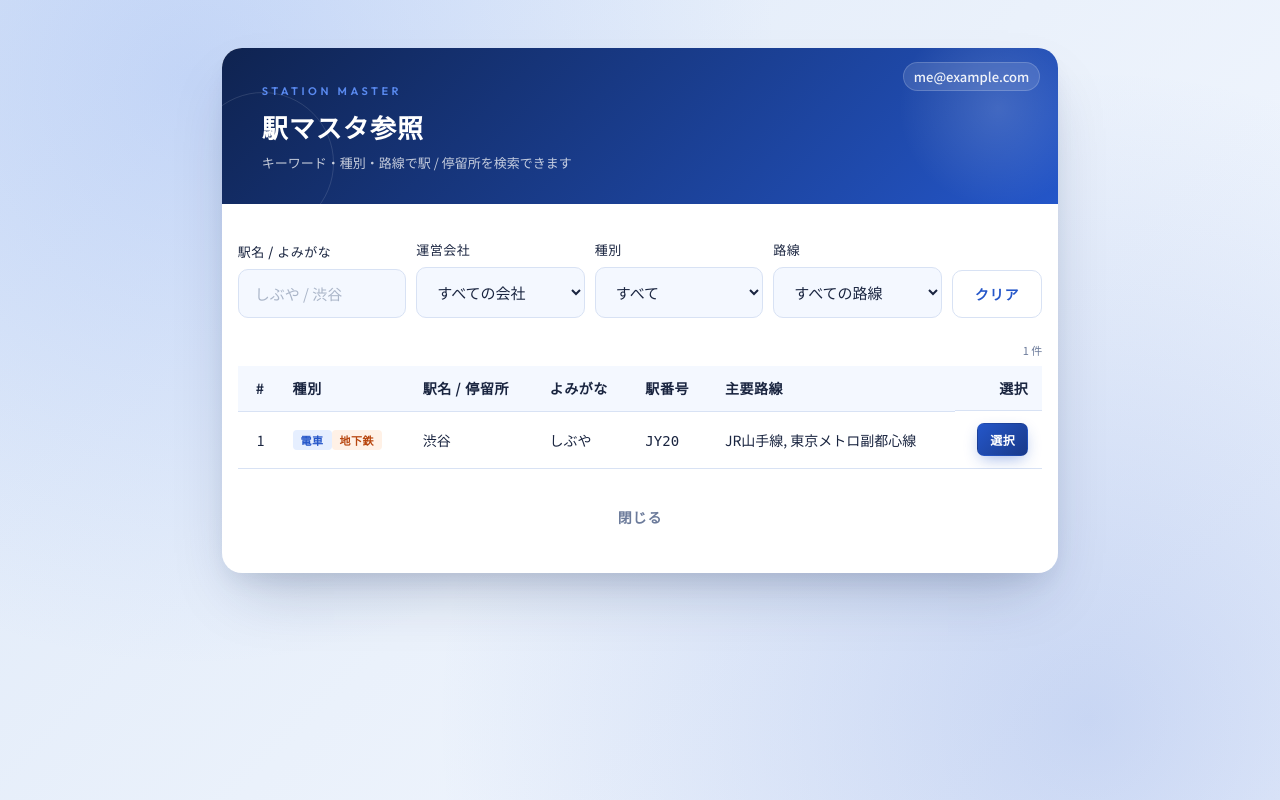
Test: StationPicker › US-065: マッチする駅が無いときは「見つかりませんでした」
The width and height of the screenshot is (1280, 800).
Expected: the text "渋谷" is shown, [409,411,536,468]
In the field labelled "駅名 / よみがな": (322, 294) [238,269,406,318], type "ZZZ"
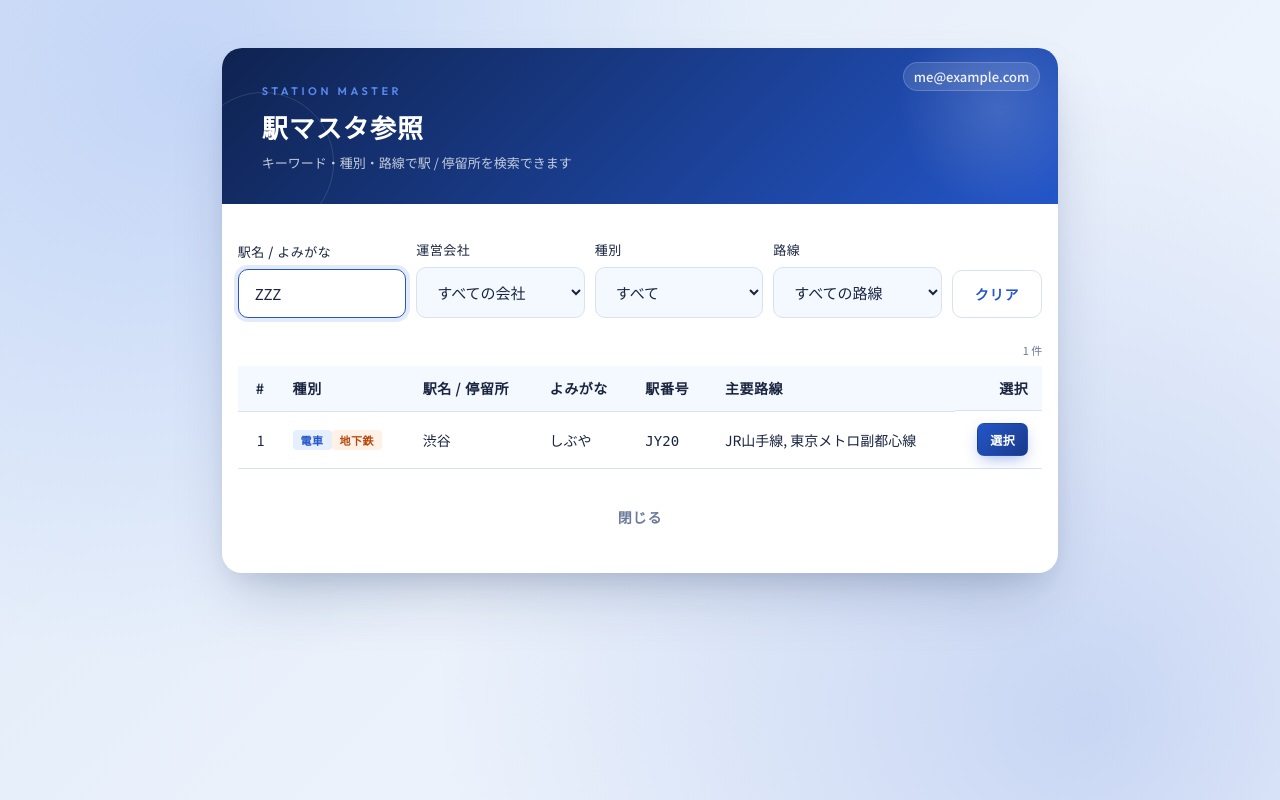
Press Tab
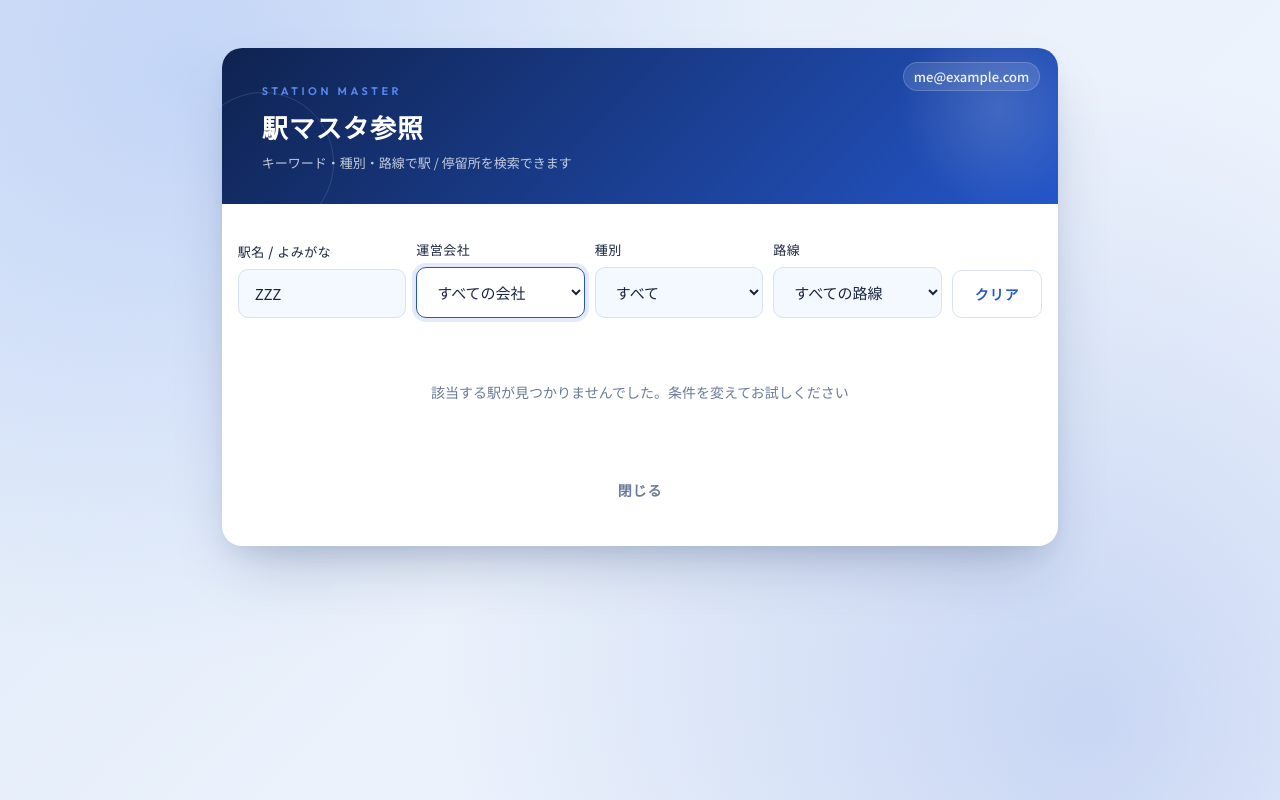
Result: the text "該当する駅が見つかりませんでした。条件を変えてお試しください" is shown at [431,382,849,402]
